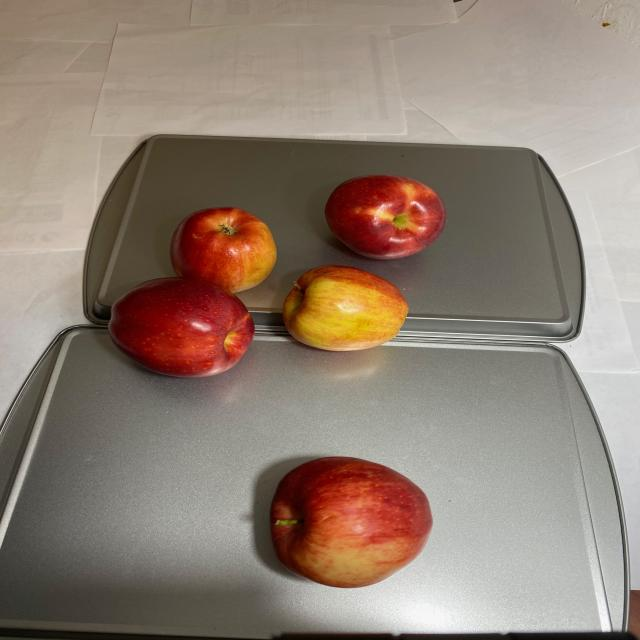Apple: (104, 174, 448, 380), (268, 456, 438, 590)
